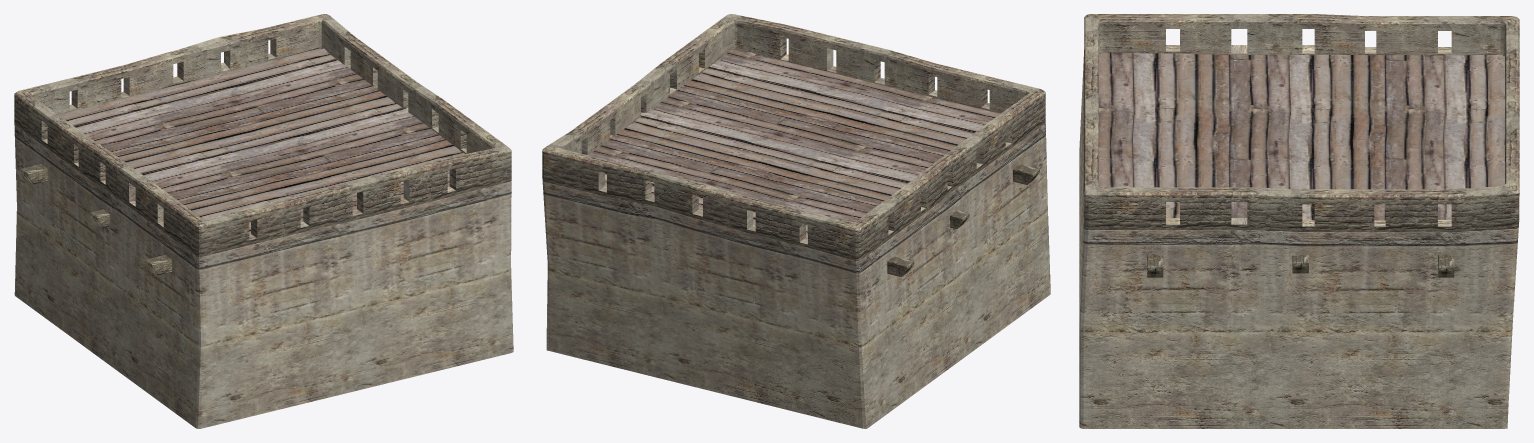
Rendered from TW2_5_HOUSE_01_15-transformed.glb.
The picture shows the model from 3 angles, left to right: view 1: azimuth 30°, elevation 25°; view 2: azimuth 150°, elevation 25°; view 3: azimuth 270°, elevation 25°; orthographic projection. The views are drawn at different scales.
Visible parts, largest first — view 1: default; view 2: default; view 3: default.
Boxes of the visible parts, x1=… form: default: x1=14, y1=14, x2=513, y2=428; default: x1=542, y1=14, x2=1050, y2=428; default: x1=1079, y1=14, x2=1519, y2=428.
Size of the model in its own units: 7.17 by 3.95 by 6.59.
4 materials, 4 textured.
